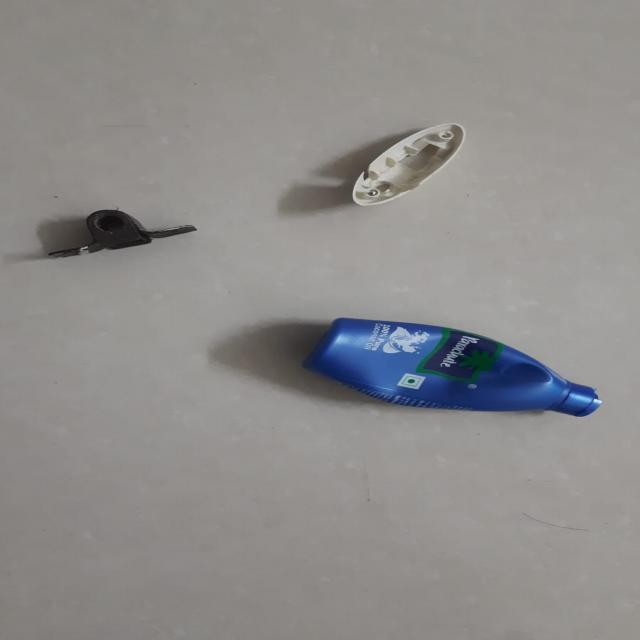metal: (17, 180, 216, 303)
plastic: (306, 306, 617, 452), (290, 111, 538, 271)
